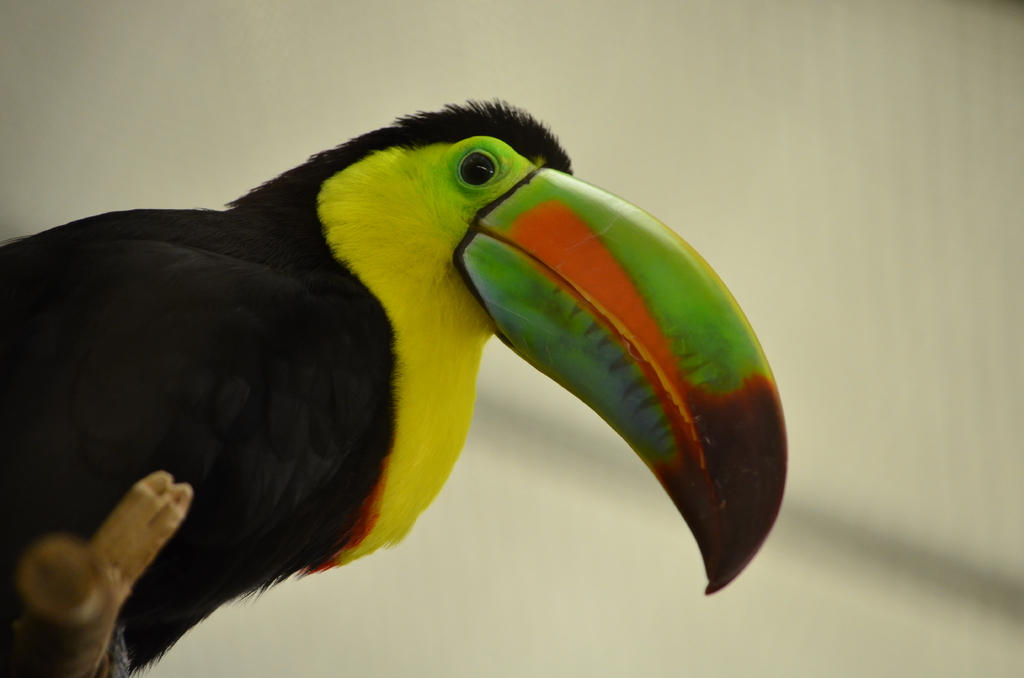Bird: (0, 96, 788, 678)
